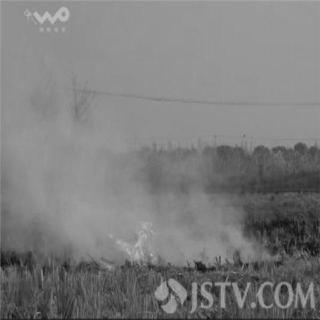Smoke: (24, 124, 111, 252), (167, 197, 241, 255)
